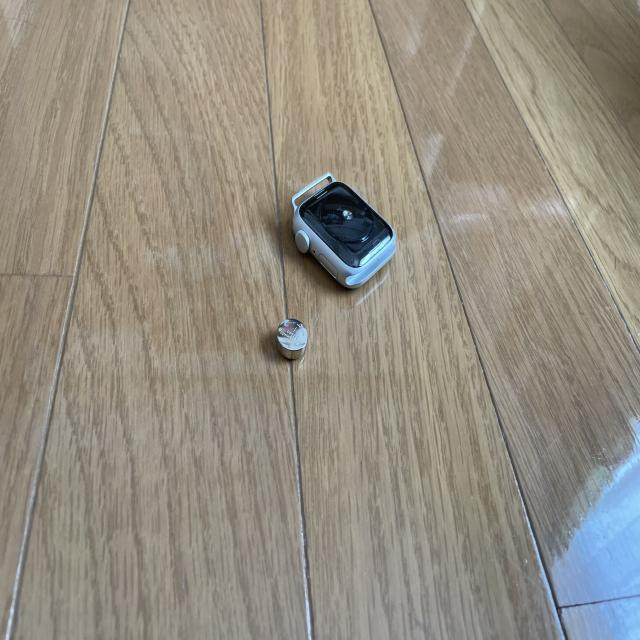COIN: (275, 318, 309, 361)
